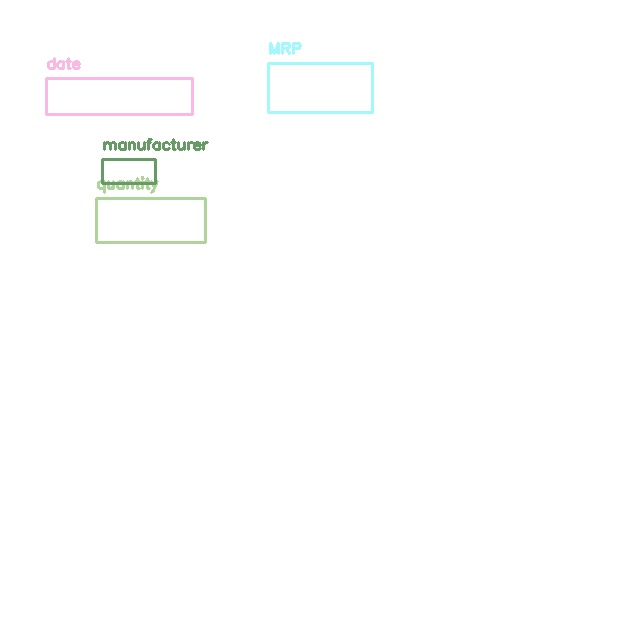MRP: (268, 63, 372, 112)
date: (46, 78, 192, 114)
manufacturer: (102, 159, 155, 183)
quantity: (96, 198, 205, 242)
